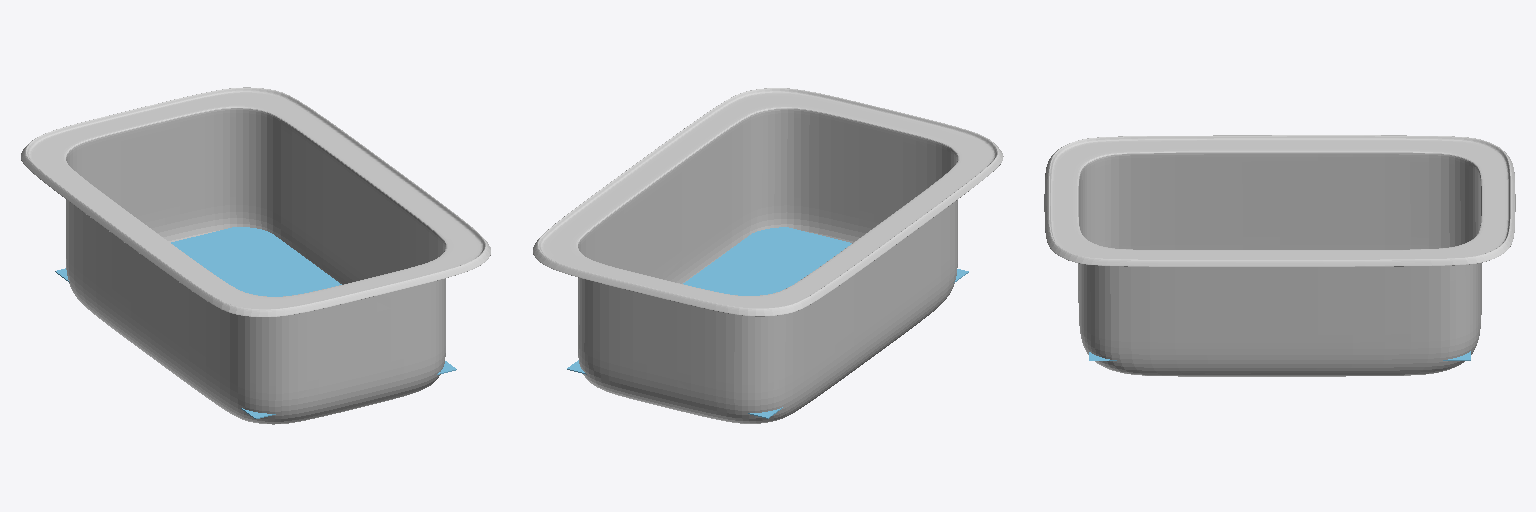
robot.urdf — sink_003:
<?xml version="1.0" ?>
<robot name="sink_003">

	<link name="base"/>

	<joint name="bottom_transform" type="fixed">
		<parent link="link_1"/>
		<child link="sink_bottom"/>
		<origin rpy="0 0 0" xyz="0 -0.05 0"/>
	</joint>
	<link name="sink_bottom">
		<visual name="water">
			<geometry>
      	<box size="0.38 .001 0.22"/>
      </geometry>
			<material name="Blue">
				<color rgba="0.537254902 0.811764706 0.941176471 1.0"/>
			</material>
		</visual>
		<collision name="water_col">
			<geometry>
      	<box size="0.38 .001 0.22"/>
      </geometry>
		</collision>
	</link>

	<link name="link_1">
		<visual name="body-6">
			<origin xyz="0 0 0"/>
			<geometry>
				<mesh filename="sink.obj"/>
			</geometry>
			<material name="White">
		    <color rgba="0.85 0.85 0.85 1.0"/>
		  </material>
		</visual>


		<collision>
			<origin xyz="0 0 0"/>
			<geometry>
				<mesh filename="sink_x.obj"/>
			</geometry>
			<material name="White">
		    <color rgba="0.85 0.85 0.85 1.0"/>
		  </material>
		</collision>
		<collision>
			<origin xyz="0 0 0"/>
			<geometry>
				<mesh filename="sink_-x.obj"/>
			</geometry>
			<material name="White">
		    <color rgba="0.85 0.85 0.85 1.0"/>
		  </material>
		</collision>
		<collision>
			<origin xyz="0 0 0"/>
			<geometry>
				<mesh filename="sink_y.obj"/>
			</geometry>
			<material name="White">
		    <color rgba="0.85 0.85 0.85 1.0"/>
		  </material>
		</collision>
		<collision>
			<origin xyz="0 0 0"/>
			<geometry>
				<mesh filename="sink_-y.obj"/>
			</geometry>
			<material name="White">
		    <color rgba="0.85 0.85 0.85 1.0"/>
		  </material>
		</collision>
		<collision>
			<origin xyz="0 0 0"/>
			<geometry>
				<mesh filename="sink_bottom.obj"/>
			</geometry>
			<material name="White">
		    <color rgba="0.85 0.85 0.85 1.0"/>
		  </material>
		</collision>
	</link>
	<joint name="joint_1" type="fixed">
		<origin rpy="-1.57 3.14 1.570796326794897" xyz="0 0 0"/>
		<child link="link_1"/>
		<parent link="base"/>
	</joint>
</robot>

--- Render facts (derived) ---
3 views of the same robot in one strip: view 1: azimuth 30°, elevation 25°; view 2: azimuth 150°, elevation 25°; view 3: azimuth 270°, elevation 25° (orthographic).
Model sink_003 with 3 links and 2 joints (2 fixed), rooted at base, posed all joints at 0.
Visible links, largest first — view 1: link_1, sink_bottom; view 2: link_1, sink_bottom; view 3: link_1.
Boxes of the visible links, x1,y1,x2,y2 form: link_1: [21, 87, 490, 424]; sink_bottom: [55, 227, 456, 418]; link_1: [533, 88, 1003, 423]; sink_bottom: [567, 227, 968, 418]; link_1: [1044, 135, 1515, 376].
Bounding box of the posed robot: 0.3012 × 0.4682 × 0.1569 m (x, y, z).
1 mesh visuals loaded from 1 distinct referenced files (1 OBJ).
